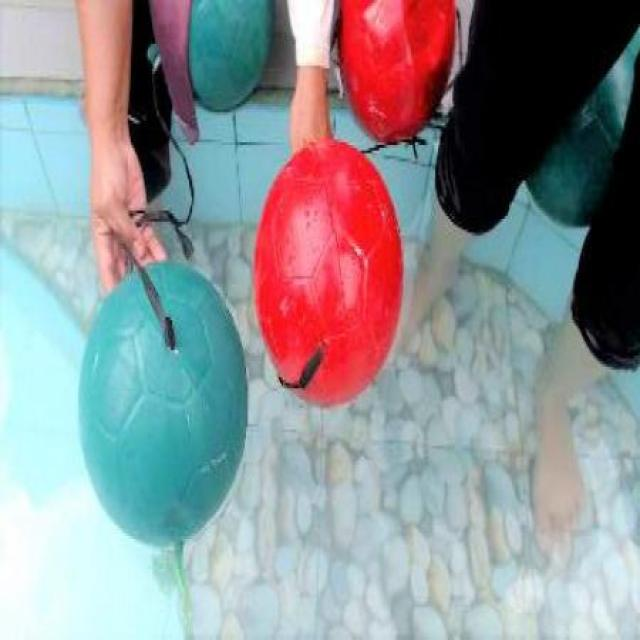buoy: (79, 260, 248, 544), (252, 138, 404, 410), (334, 0, 457, 142), (190, 0, 272, 110)
